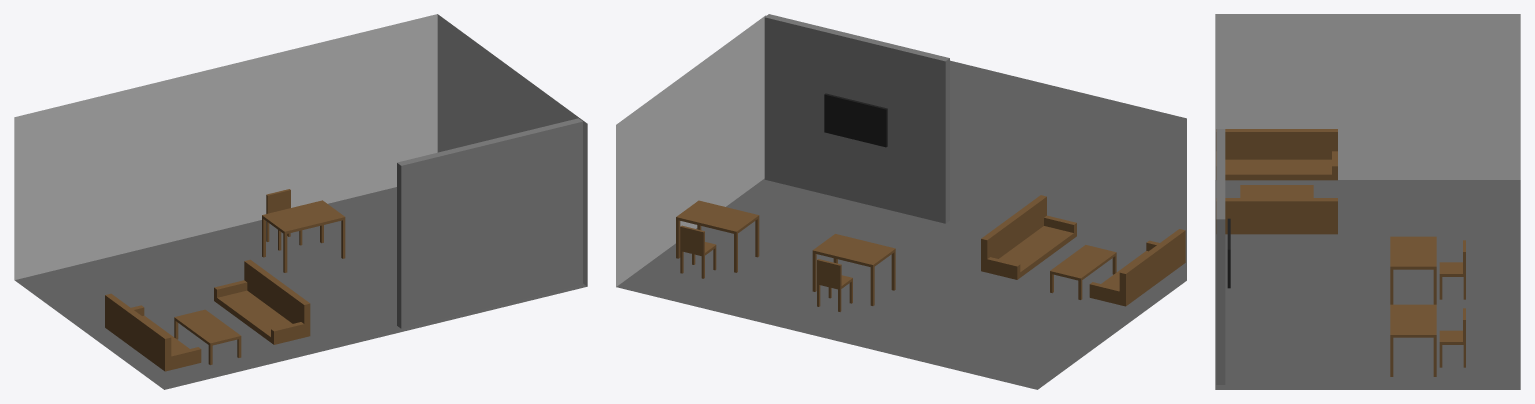
File: room2.glb
The picture shows the model from 3 angles, left to right: view 1: azimuth 30°, elevation 25°; view 2: azimuth 150°, elevation 25°; view 3: azimuth 270°, elevation 25°; orthographic projection. The views are drawn at different scales.
Visible parts, largest first — view 1: walls, floor, partition_a, Sofa, TableChair; view 2: walls, floor, partition_a, Sofa, TableChair, led_tv; view 3: floor, walls, Sofa, TableChair, partition_a, led_tv.
Part boxes in pixels (x1,y1,x2,y2): walls: [14, 14, 587, 286]; floor: [15, 187, 587, 389]; partition_a: [397, 118, 582, 328]; Sofa: [105, 259, 310, 371]; TableChair: [262, 189, 345, 272]; walls: [616, 15, 1186, 286]; floor: [616, 178, 1186, 389]; partition_a: [764, 14, 949, 223]; Sofa: [981, 195, 1185, 306]; TableChair: [676, 200, 895, 311]; led_tv: [824, 93, 887, 147]; floor: [1215, 180, 1520, 389]; walls: [1215, 14, 1520, 179]; Sofa: [1216, 129, 1337, 234]; TableChair: [1390, 236, 1465, 376]; partition_a: [1216, 129, 1225, 384]; led_tv: [1227, 218, 1230, 288].
Bounding box in the file's own units: 8.15 × 3.05 × 5.
